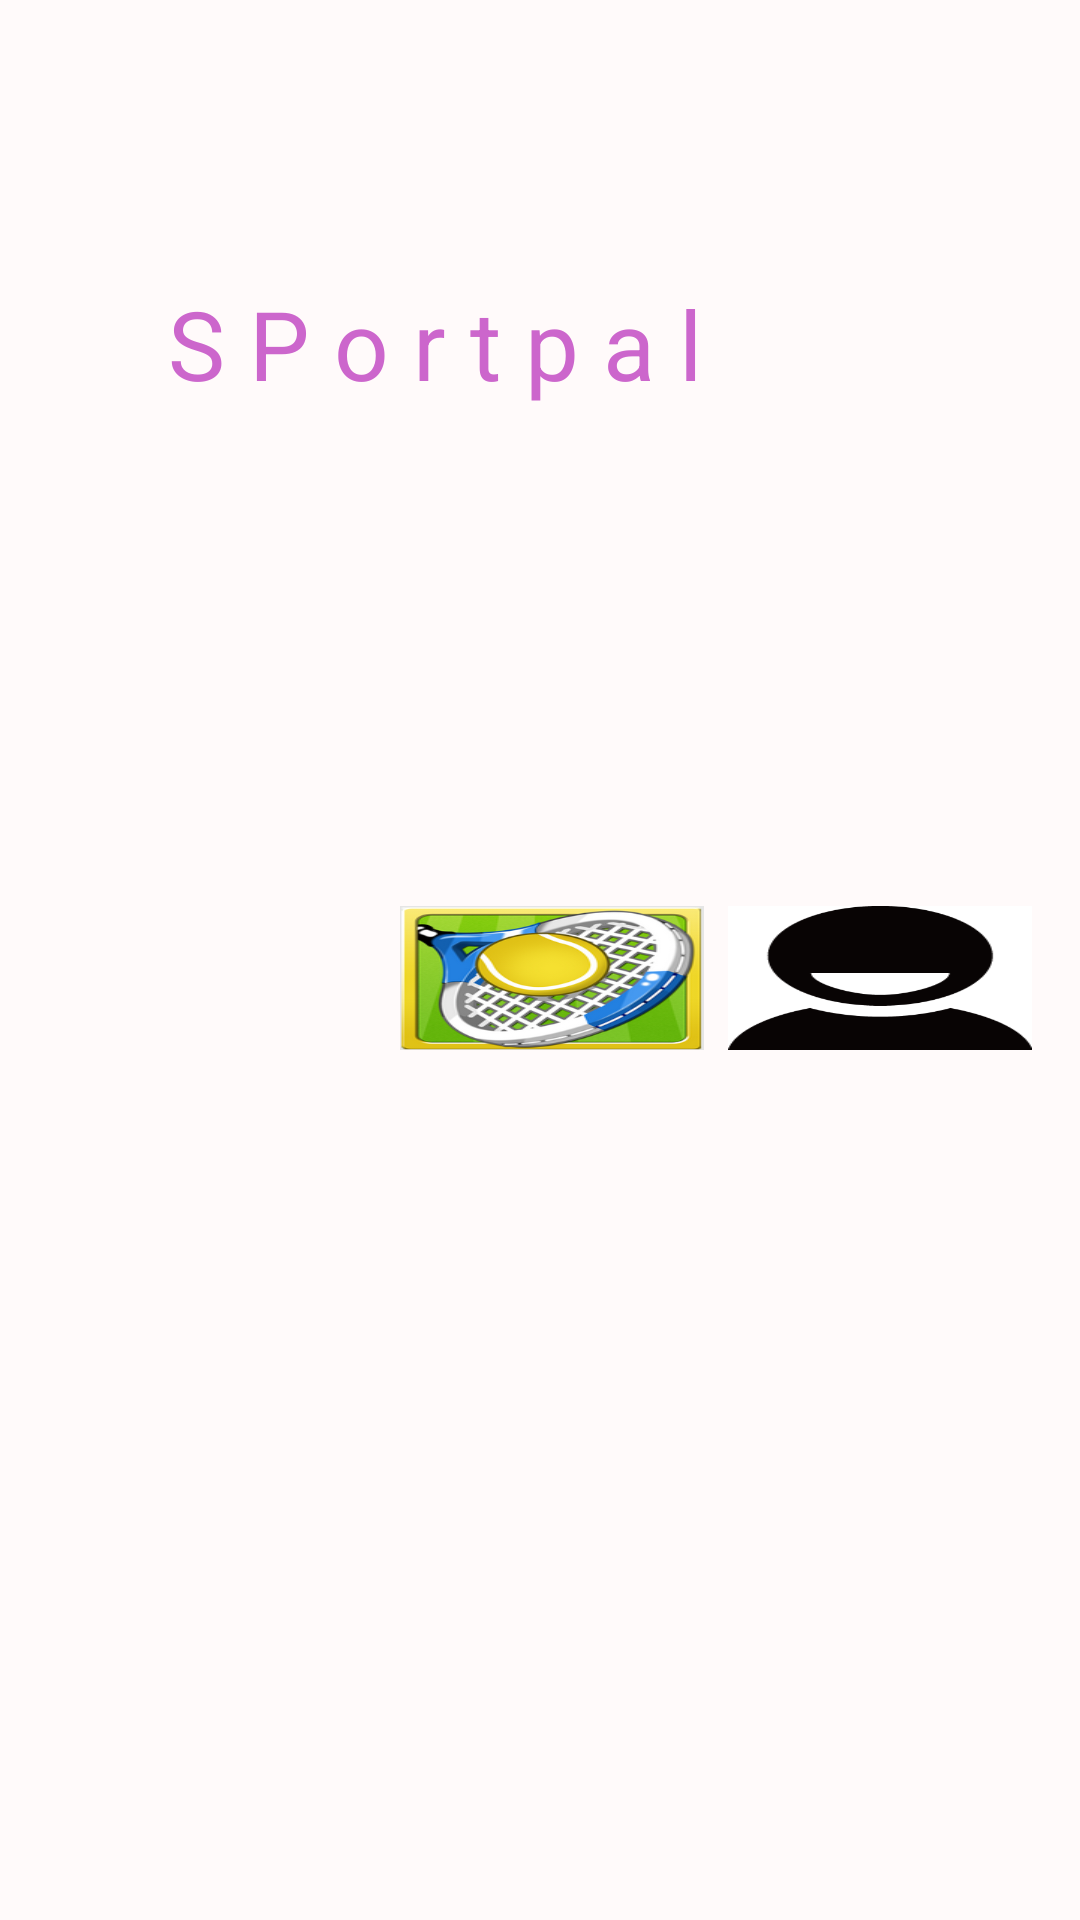

Icons on this 1080px×1920px Android screen, each with the point to tap as (x,y):
pennisicon: (552,978)
user: (880,978)
